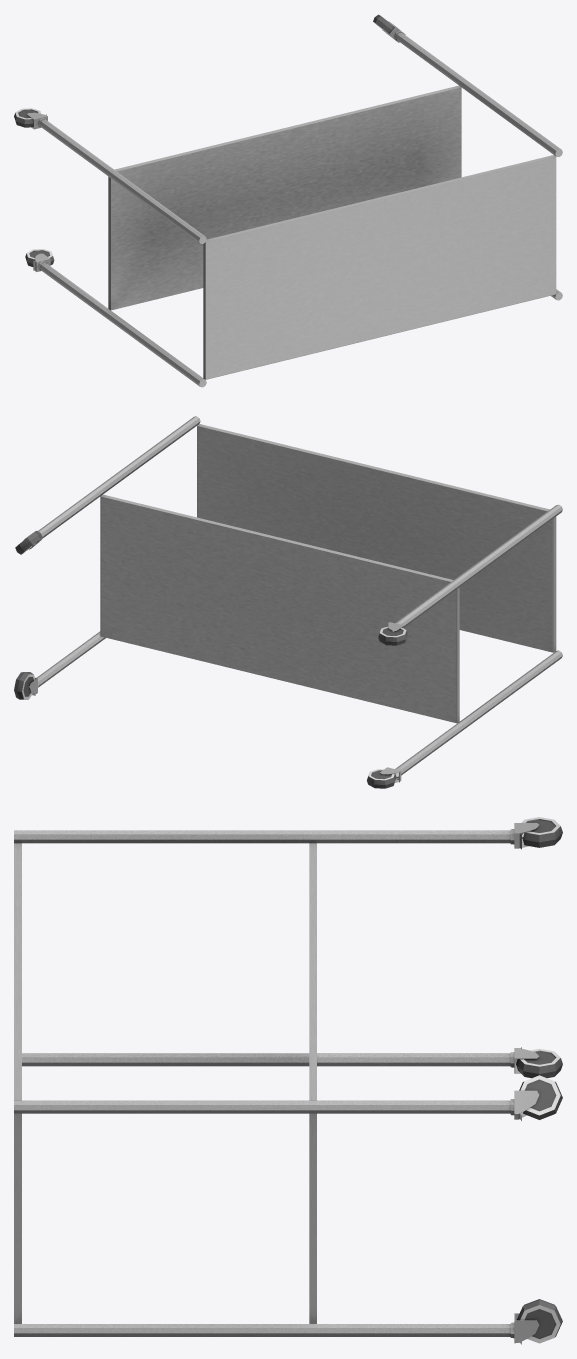
File: trolley_visual.obj
3 views of the same model, one above another, from view 1: azimuth 30°, elevation 25°; view 2: azimuth 150°, elevation 25°; view 3: azimuth 270°, elevation 25° (orthographic). The views are drawn at different scales.
Visible parts, largest first — view 1: trolley_Cube.002; view 2: trolley_Cube.002; view 3: trolley_Cube.002.
Part boxes in pixels (box(x1,y1,x2,y2)): trolley_Cube.002: box(14, 14, 562, 387); trolley_Cube.002: box(14, 416, 562, 788); trolley_Cube.002: box(14, 817, 562, 1344).
Size of the model in its own units: 0.8786 by 0.3664 by 0.7007.
Materials: 1 (1 with a texture image).
